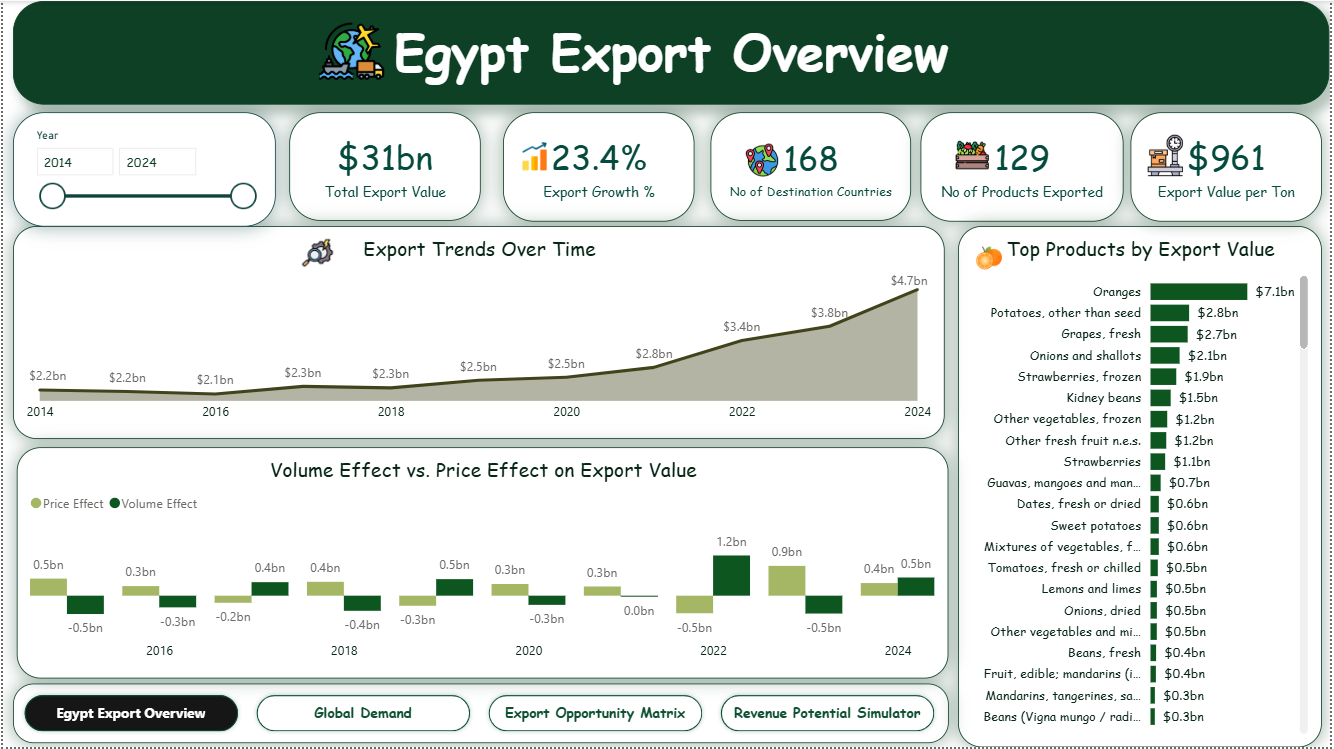

This screenshot's page, from the dashboard's own definition file:
{"tool":"powerbi","page":{"name":"Egypt Export Overview","canvas":[1280,720],"ordinal":0},"visuals":[{"type":"textbox","box":[9.5,0,1270.5,100.1],"z":0},{"type":"card","fields":{"Values":["exports_detail.Total Export Value"]},"box":[276.2,108,184.8,105],"z":1000},{"type":"card","fields":{"Values":["exports_detail.Number of Destination Countries"]},"box":[682.8,108,193.6,105],"z":2000},{"type":"card","fields":{"Values":["exports_detail.Export Growth %"]},"box":[482.2,107.8,184.6,105.2],"z":3000},{"type":"card","fields":{"Values":["exports_detail.Number of Products Exported"]},"box":[885,107.8,195.8,105.2],"z":4000},{"type":"clusteredBarChart","title":"Top Products by Export Value","fields":{"Category":["DIM_PRODUCT.name_en"],"Y":["exports_detail.Total Export Value"]},"box":[921.5,216.7,351,503.3],"z":5000},{"type":"areaChart","title":"Export Trends Over Time","fields":{"Category":["DIM_YEAR.year"],"Y":["exports_detail.Total Export Value"]},"box":[9.9,217.6,899.1,206],"z":6000},{"type":"card","fields":{"Values":["exports_detail.Export Value per Ton"]},"box":[1087.7,107.8,184.6,105.2],"z":7000},{"type":"pageNavigator","box":[9.5,659,903.1,57.8],"z":9000},{"type":"slicer","fields":{"Values":["DIM_YEAR.year"]},"box":[9.9,107.5,253.4,110.1],"z":10000},{"type":"image","box":[869.5,128.4,131.3,41.8],"z":11000},{"type":"image","box":[930.8,230.5,40.9,35],"z":12000},{"type":"image","box":[495.1,119.6,37,60.3],"z":13000},{"type":"image","box":[146.9,12.6,378.4,72.9],"z":14000},{"type":"image","box":[1097.1,124.5,50.6,49.6],"z":15000},{"type":"image","box":[703.2,132.3,58.4,41.8],"z":16000},{"type":"image","box":[283,216.9,39.9,52.5],"z":17000},{"type":"image","box":[298.6,445.5,47.7,37.9],"z":18000},{"type":"clusteredColumnChart","title":"Volume Effect vs. Price Effect on Export Value","fields":{"Category":["exports_detail.year"],"Y":["exports_detail.Price Effect","exports_detail.Volume Effect"]},"box":[13.4,430.7,899.1,223],"z":18001}]}

Visuals, with their boxes in screenshot pixels (x1, y1, x2, y2), scaled from the page's 1280x720 canvas onto the 1334x749 screenshot:
textbox: [10,0,1333,104]
card - exports_detail.Total Export Value: [288,112,480,222]
card - exports_detail.Number of Destination Countries: [712,112,913,222]
card - exports_detail.Export Growth %: [503,112,695,222]
card - exports_detail.Number of Products Exported: [922,112,1126,222]
"Top Products by Export Value" clusteredBarChart: [960,225,1326,748]
"Export Trends Over Time" areaChart: [10,226,947,441]
card - exports_detail.Export Value per Ton: [1134,112,1326,222]
pageNavigator: [10,686,951,746]
slicer - DIM_YEAR.year: [10,112,274,226]
image: [906,134,1043,177]
image: [970,240,1013,276]
image: [516,124,555,187]
image: [153,13,547,89]
image: [1143,130,1196,181]
image: [733,138,794,181]
image: [295,226,337,280]
image: [311,463,361,503]
"Volume Effect vs. Price Effect on Export Value" clusteredColumnChart: [14,448,951,680]
